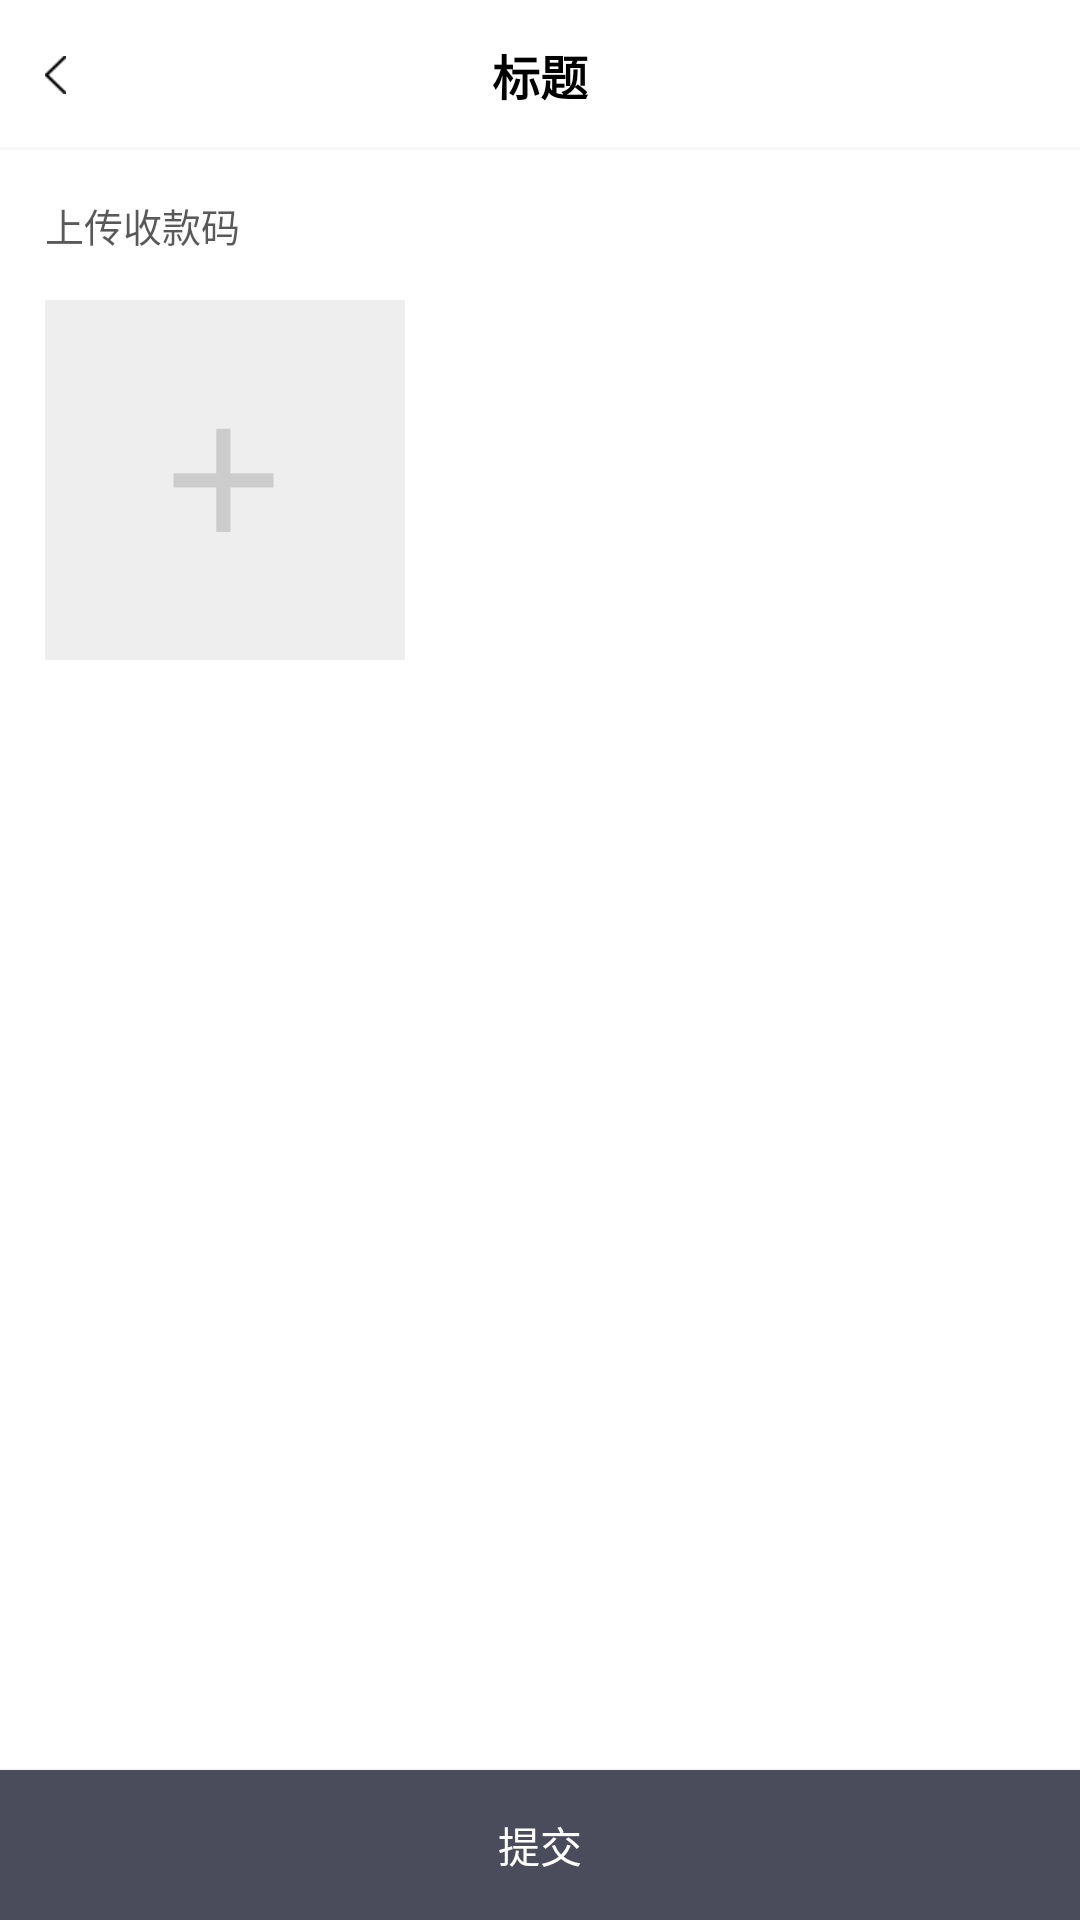

Named icons in this screenshot (1080 × 1920) and their centers, (x,y):
back: (55,75)
